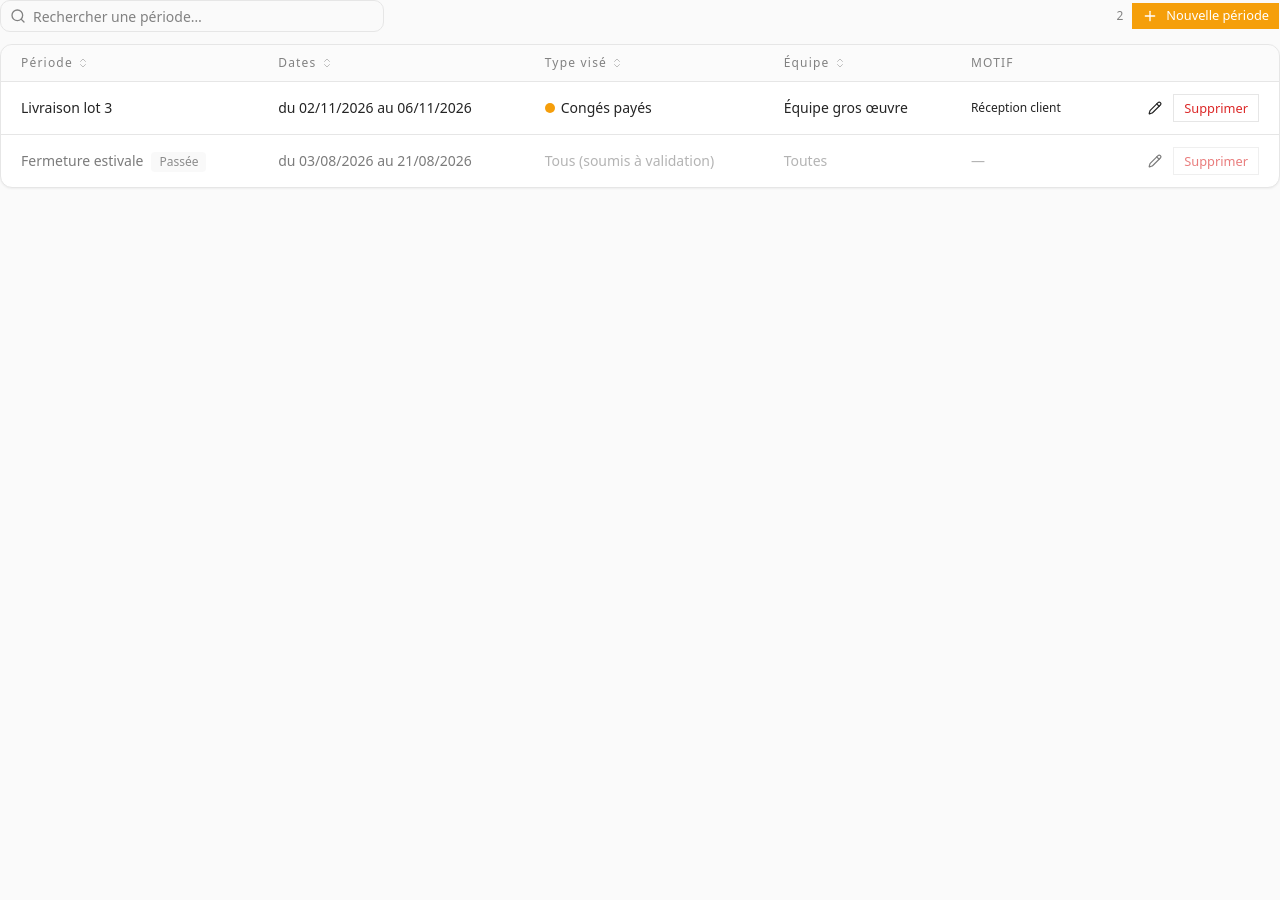
Test case: PeriodesBloqueesSection › refuse une fin antérieure au début sans appeler le serveur
Click the button "Nouvelle période": (1206, 16) [1131, 2, 1279, 30]
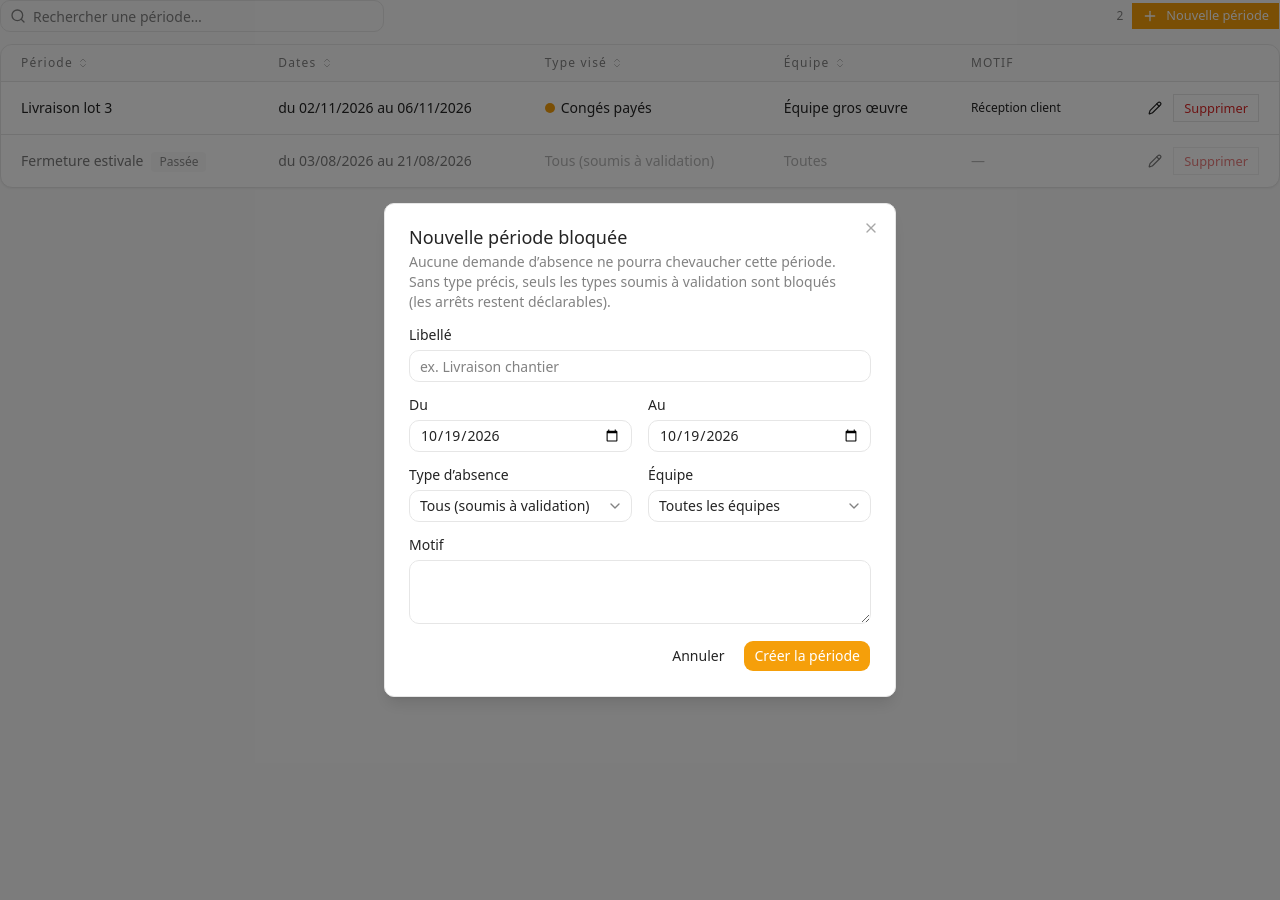
In the field labelled "Libellé": (640, 366) [409, 350, 871, 382], type "Test"
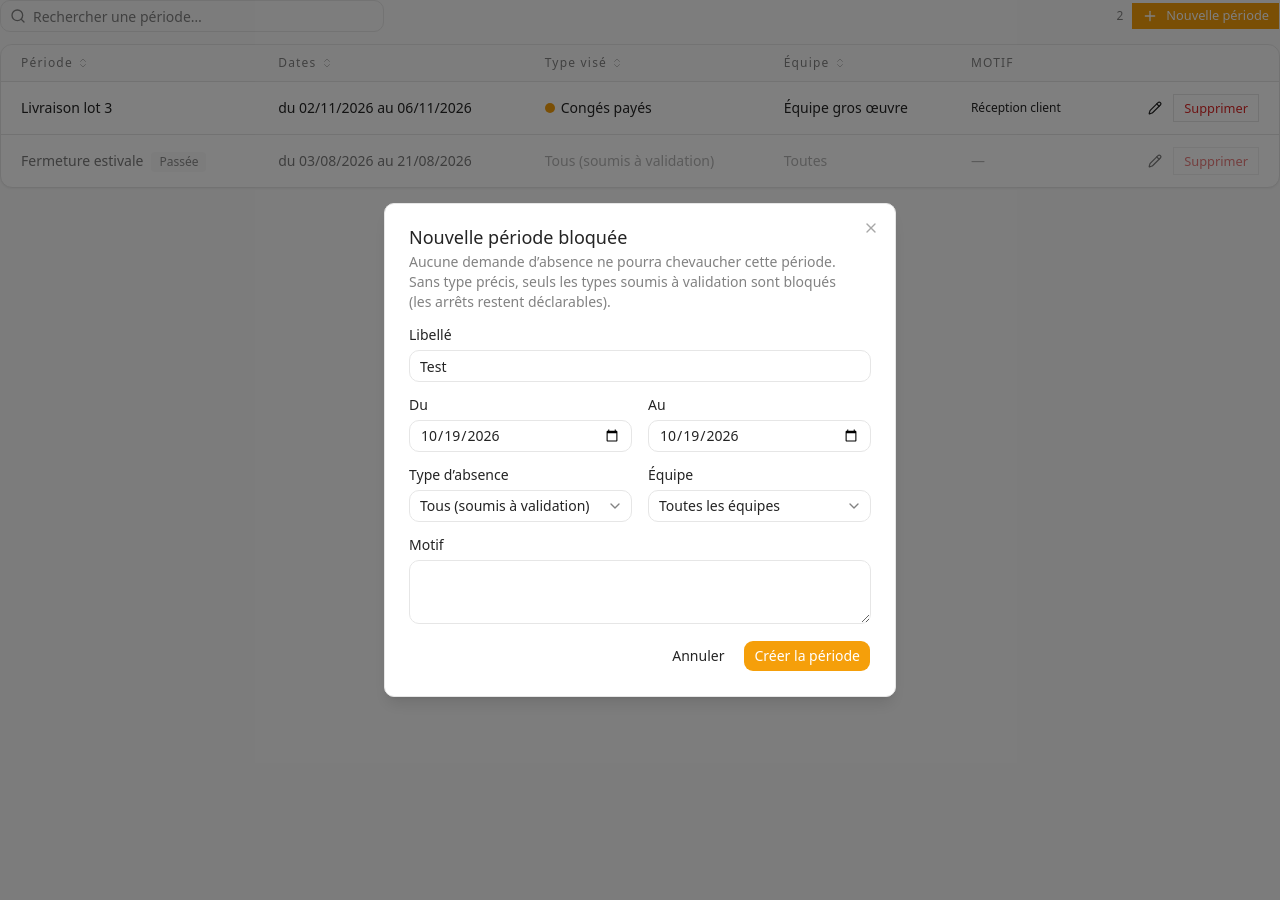
In the date field labelled "Du": (520, 436) [409, 420, 632, 452], type "2026-12-28"
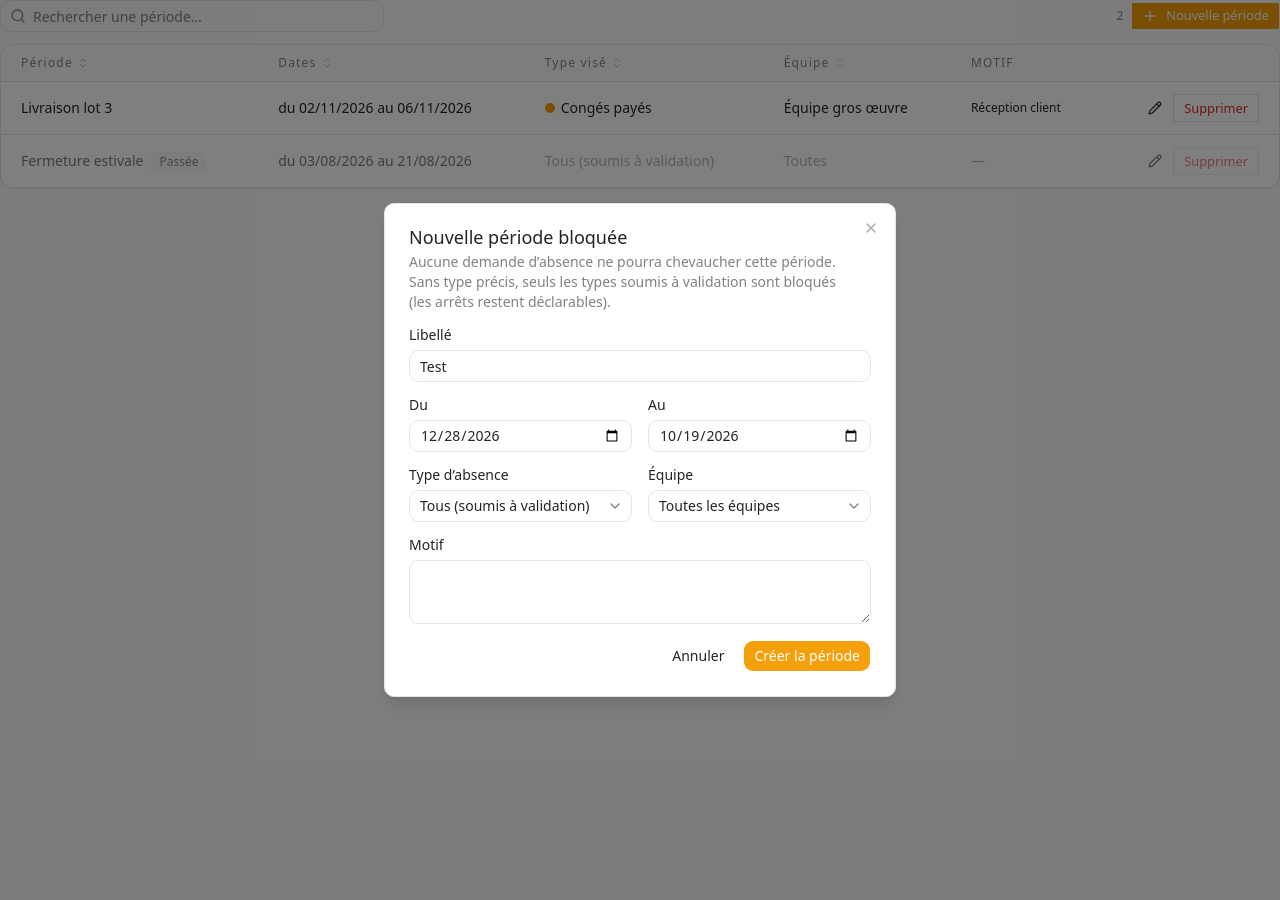
In the date field labelled "Au": (760, 436) [648, 420, 871, 452], type "2026-12-01"
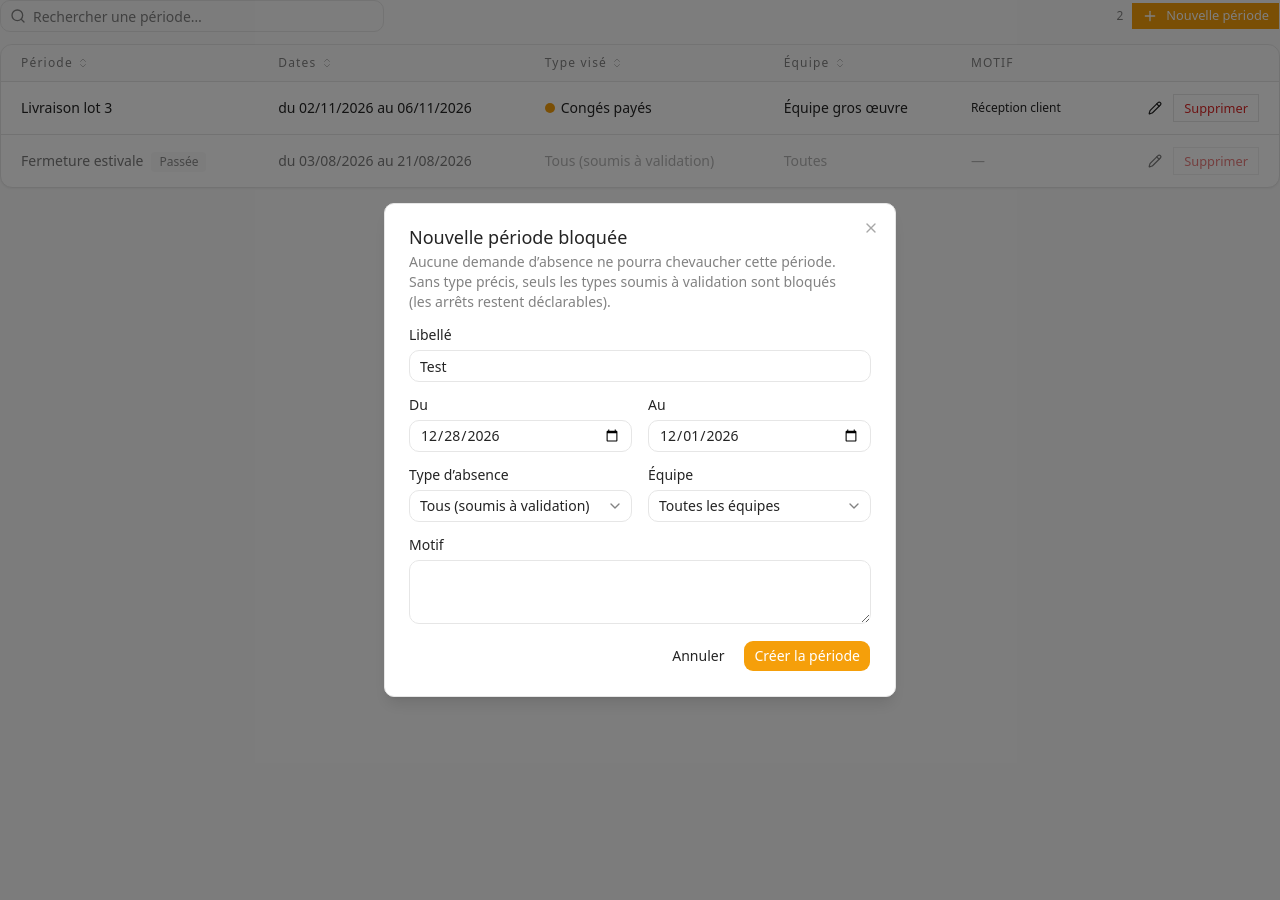
Click the button "Créer la période": (807, 656) [744, 640, 871, 672]
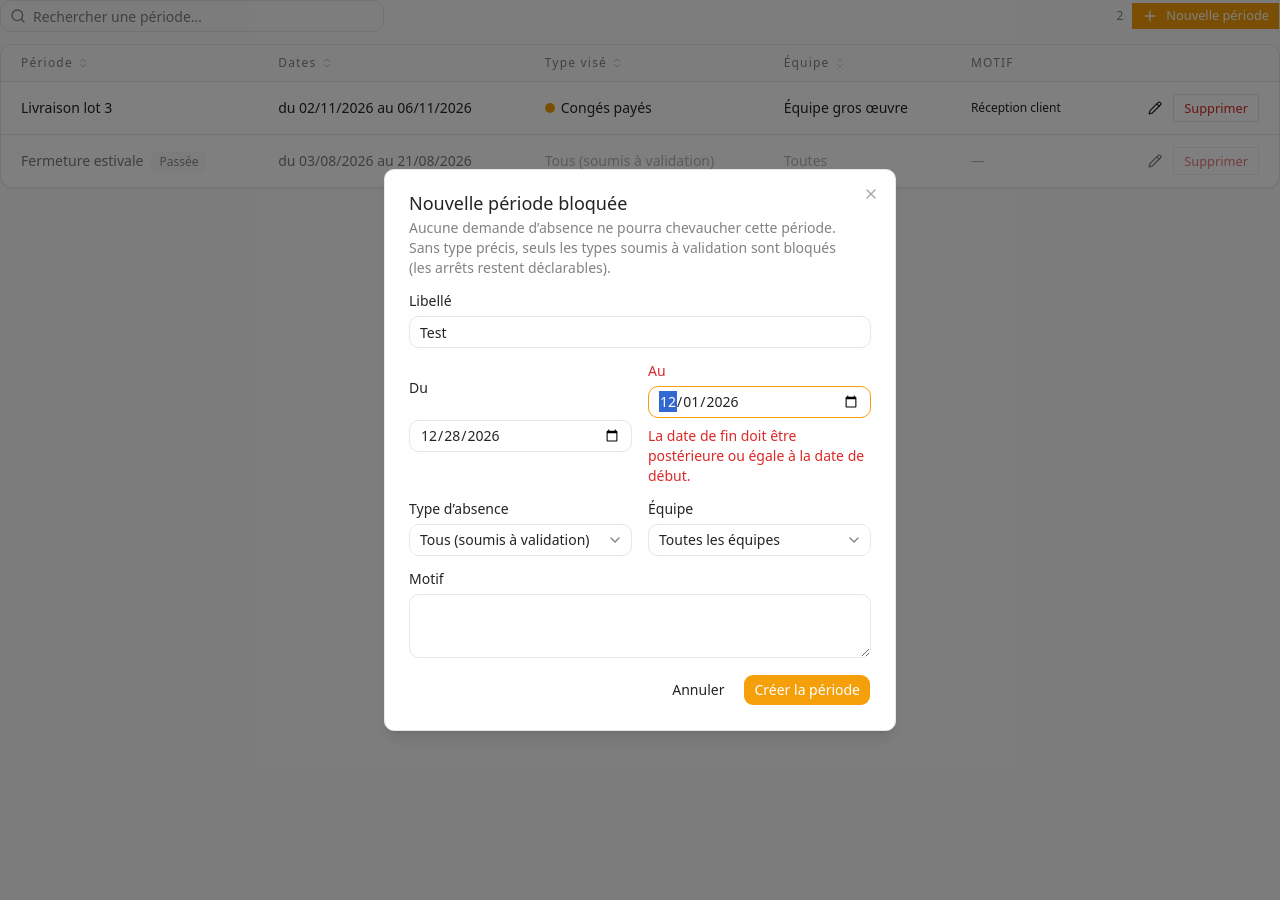
Now the text "La date de fin doit être postérieure ou égale à la date de début." is shown, box [648, 426, 871, 486]
